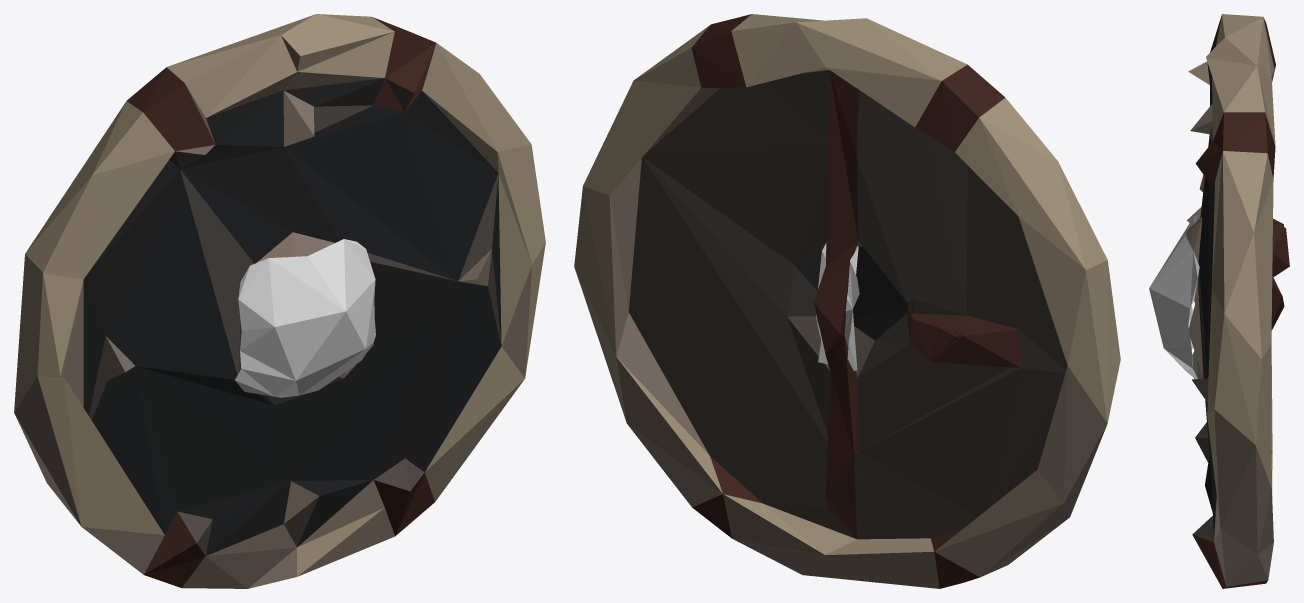
The model's file is aithrall_shield.glb.
The picture shows the model from 3 angles, left to right: view 1: azimuth 30°, elevation 25°; view 2: azimuth 150°, elevation 25°; view 3: azimuth 270°, elevation 25°; orthographic projection. The views are drawn at different scales.
Visible parts, largest first — view 1: ca_aithrall_shield; view 2: ca_aithrall_shield; view 3: ca_aithrall_shield.
Part boxes in pixels (x1,y1,x2,y2): ca_aithrall_shield: (14,14,545,588); ca_aithrall_shield: (574,14,1120,588); ca_aithrall_shield: (1149,14,1289,588).
Bounding box in the file's own units: 0.4697 × 0.4682 × 0.1158.
